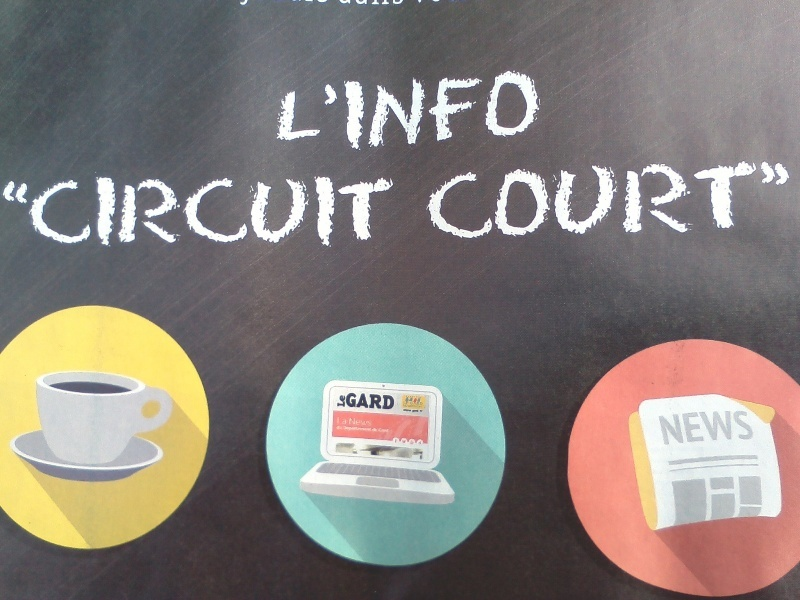text: (289, 67, 304, 155), (305, 67, 320, 155), (321, 67, 336, 155), (337, 67, 352, 155), (353, 67, 368, 155), (369, 67, 384, 155), (385, 67, 400, 155), (401, 67, 416, 155), (417, 67, 432, 155), (433, 67, 448, 155), (449, 67, 464, 155), (465, 67, 480, 155), (481, 67, 496, 155), (497, 67, 512, 155), (513, 67, 528, 155), (433, 155, 448, 242), (449, 155, 464, 242), (465, 155, 480, 242), (481, 155, 496, 242), (497, 155, 512, 242), (513, 155, 528, 242), (529, 155, 544, 242), (545, 155, 560, 242), (561, 155, 576, 242), (577, 155, 592, 242), (593, 155, 608, 242), (609, 155, 624, 242), (625, 155, 640, 242), (641, 155, 656, 242), (657, 155, 672, 242), (673, 155, 688, 242), (689, 155, 704, 242), (705, 155, 720, 242), (721, 155, 736, 242), (737, 155, 752, 242), (753, 155, 768, 242), (769, 155, 784, 242), (529, 67, 543, 155), (785, 155, 798, 242), (17, 172, 32, 247), (33, 172, 48, 247), (49, 172, 64, 247), (65, 172, 80, 247), (81, 172, 96, 247), (97, 172, 112, 247), (113, 172, 128, 247), (129, 172, 144, 247), (145, 172, 160, 247), (161, 172, 176, 247), (177, 172, 192, 247), (193, 172, 208, 247), (209, 172, 224, 247), (225, 172, 240, 247), (241, 172, 256, 247), (257, 172, 272, 247), (273, 172, 288, 247), (289, 172, 304, 247), (305, 172, 320, 247), (321, 172, 336, 247), (337, 172, 352, 247), (353, 172, 368, 247), (369, 172, 384, 247), (385, 172, 400, 247), (276, 67, 288, 155), (3, 172, 16, 247), (422, 155, 432, 242), (657, 407, 672, 447), (673, 407, 688, 447), (689, 407, 704, 447), (705, 407, 720, 447), (721, 407, 736, 447), (737, 407, 752, 447), (353, 393, 368, 410), (369, 393, 384, 410), (338, 395, 352, 408), (385, 393, 395, 410), (353, 417, 368, 426), (753, 407, 756, 447), (337, 417, 352, 425), (337, 426, 352, 434), (353, 426, 368, 434), (369, 426, 384, 434), (346, 393, 352, 410), (403, 400, 416, 406), (401, 172, 402, 247), (403, 409, 416, 413), (417, 400, 424, 406), (385, 426, 390, 434), (349, 417, 352, 426), (369, 417, 372, 426), (417, 409, 423, 413), (406, 396, 416, 398), (417, 396, 421, 398)
